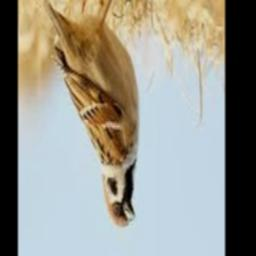Sparrow: (38, 0, 139, 226)
